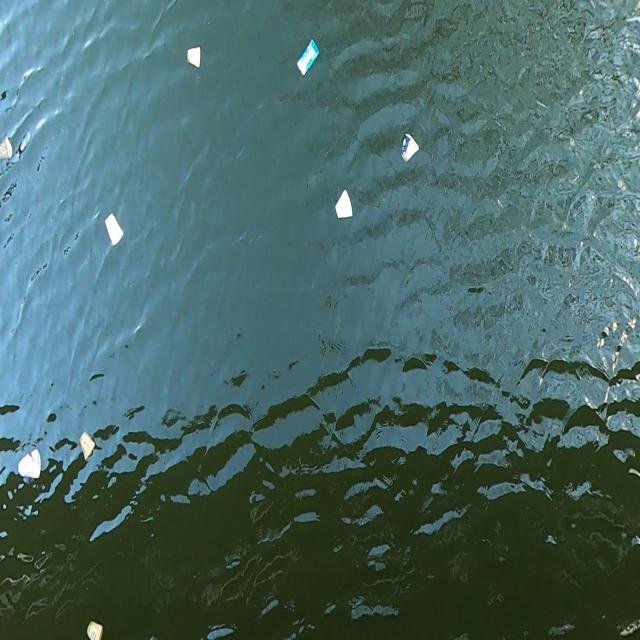Non plastique: (16, 442, 47, 487), (295, 37, 327, 80), (330, 184, 359, 227), (397, 126, 421, 171), (103, 208, 128, 251), (183, 37, 206, 73), (77, 428, 100, 464)
